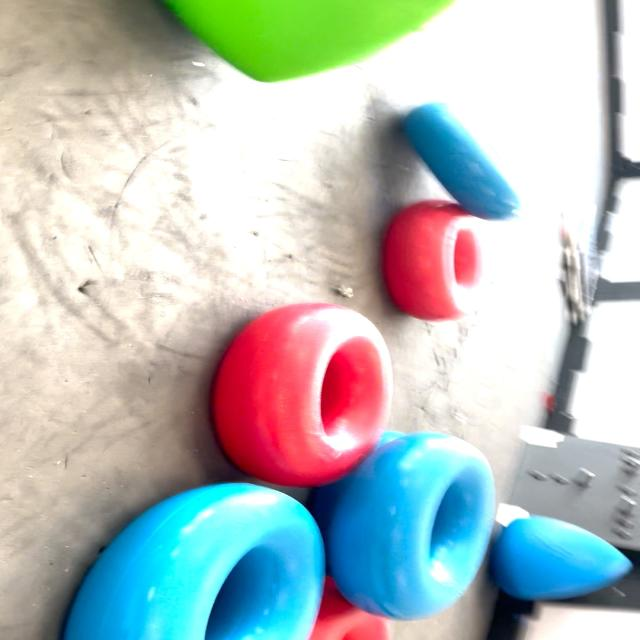Blue-Ring: (64, 484, 324, 639), (313, 431, 493, 620), (404, 102, 520, 220)
Red-Ring: (213, 302, 391, 488), (384, 200, 480, 321), (267, 380, 269, 382)
